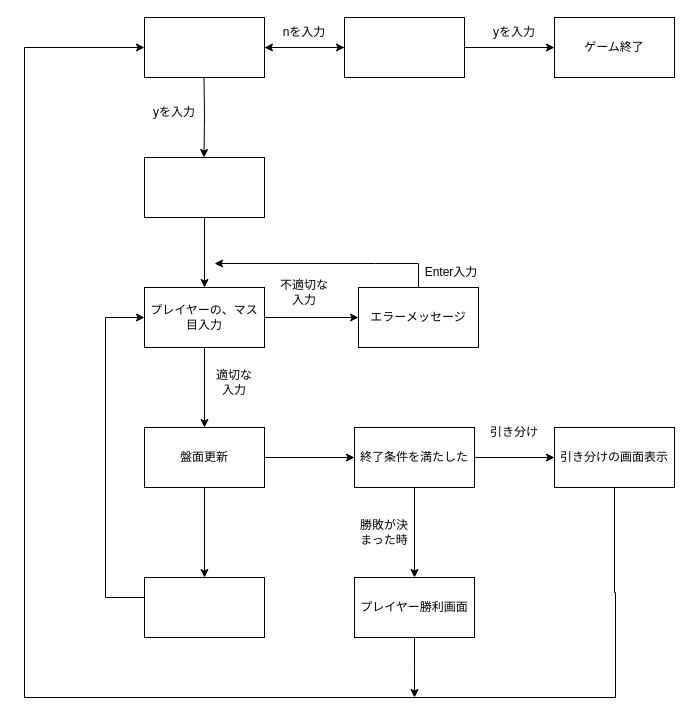
Some shapes in this 692 by 723 pixel diagram are drawn without their labels. The shapes that lost their labels are listed below. From the top down, each one's centre as x and y in pixels, then its label:
At (204,47): "ゲーム起動 開始選択".
At (404,47): "終了確認画面".
At (204,187): "ゲーム開始".
At (204,607): "手番交代".
